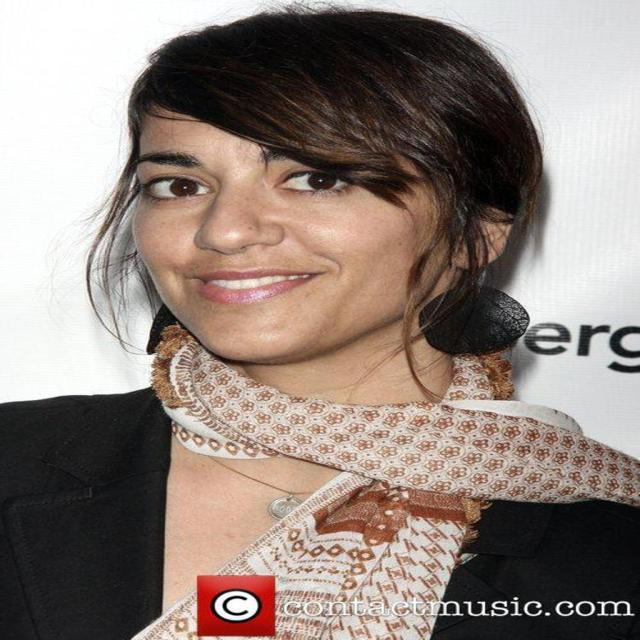Face: (143, 105, 420, 370)
